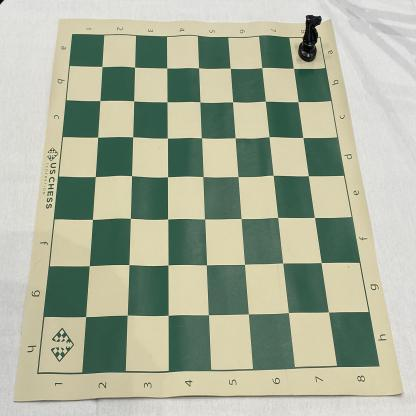black-knight: (298, 15, 322, 63)
